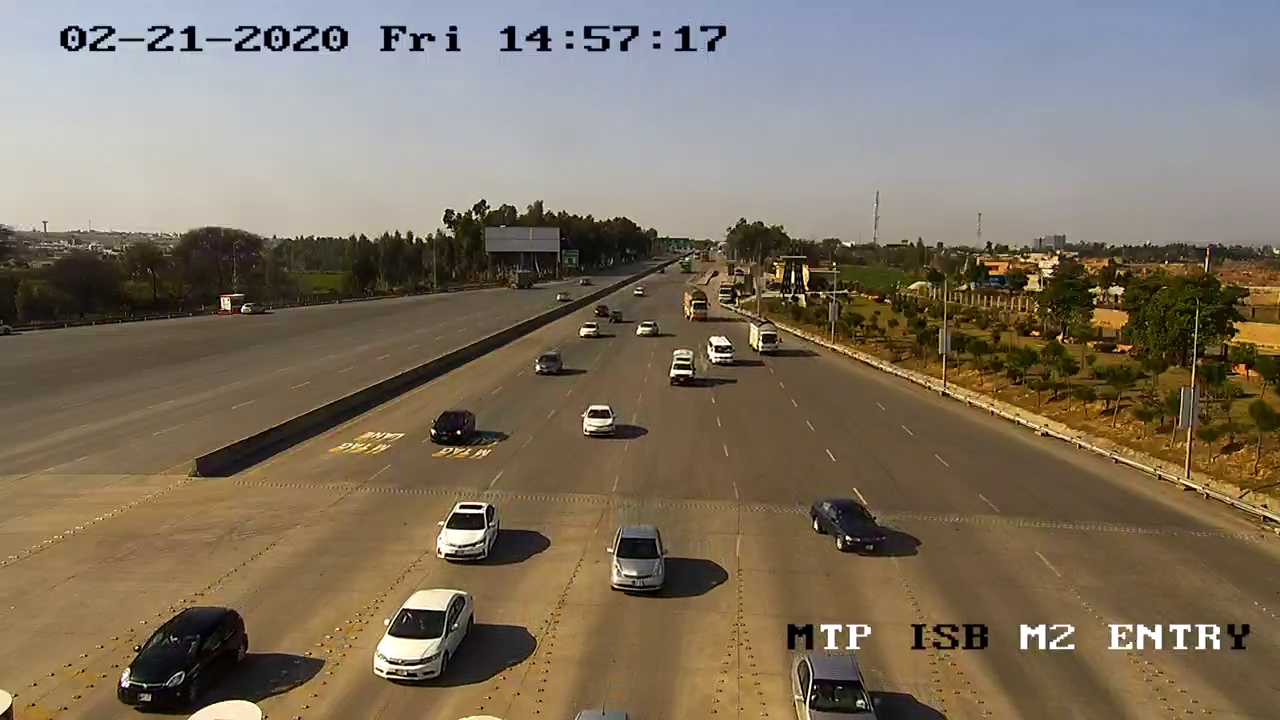f1: (103, 589, 255, 720), (369, 575, 488, 697), (774, 640, 895, 720), (423, 484, 511, 570), (799, 483, 892, 561), (597, 511, 675, 601), (422, 400, 494, 457), (569, 394, 623, 446)
